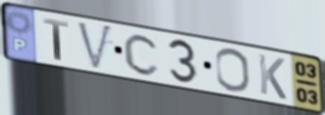3: (167, 37, 201, 87)
C: (121, 32, 161, 77)
K: (256, 52, 289, 102)
O: (213, 47, 253, 95)
T: (41, 15, 70, 62)
V: (75, 19, 115, 73)
